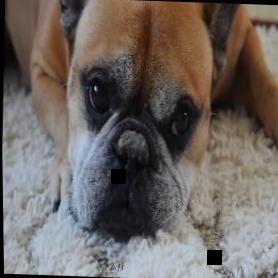keratosis: (111, 128, 151, 166)
